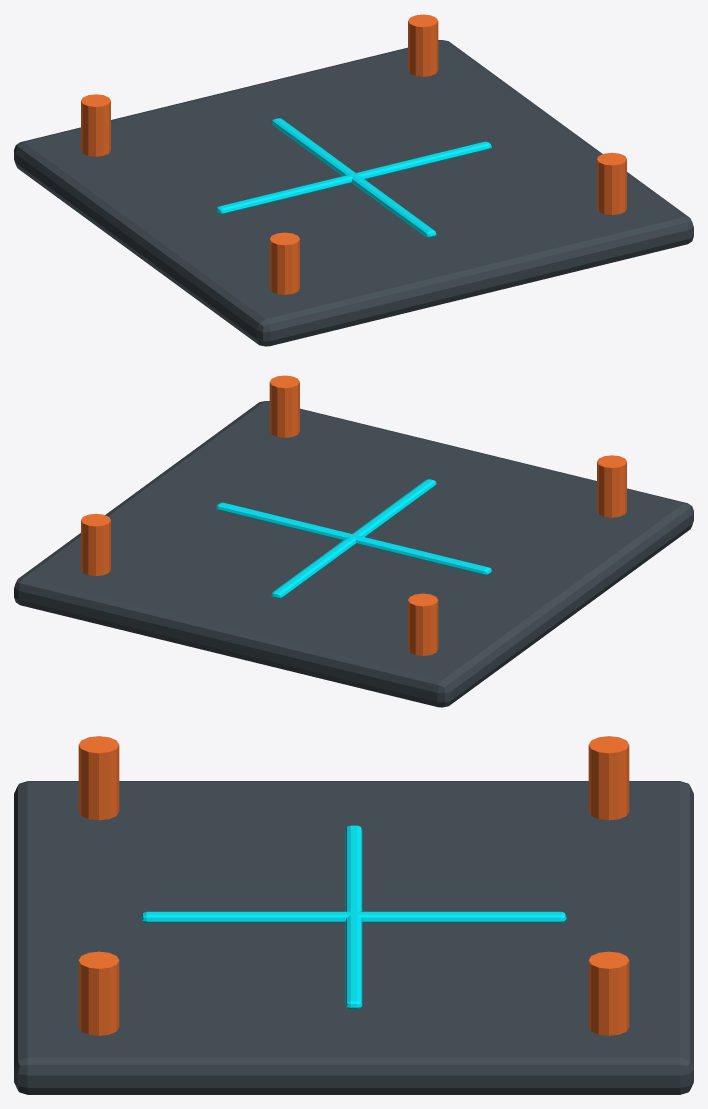
The model's file is LPK_SalvagePad_4m.fbx.
3 views of the same model, one above another, from view 1: azimuth 30°, elevation 25°; view 2: azimuth 150°, elevation 25°; view 3: azimuth 270°, elevation 25° (orthographic). The views are drawn at different scales.
Visible parts, largest first — view 1: PadBase, PadMark, PadMark.001, PadBeacon.003, PadBeacon, PadBeacon.001, PadBeacon.002; view 2: PadBase, PadMark, PadMark.001, PadBeacon.002, PadBeacon.001, PadBeacon, PadBeacon.003; view 3: PadBase, PadMark.001, PadBeacon.002, PadBeacon.003, PadBeacon, PadBeacon.001, PadMark.
Boxes of the visible parts, x1,y1,x2,y2 form: PadBase: [14, 40, 693, 346]; PadMark: [216, 141, 491, 214]; PadMark.001: [271, 118, 436, 237]; PadBeacon.003: [408, 14, 438, 76]; PadBeacon: [269, 232, 299, 294]; PadBeacon.001: [81, 94, 110, 156]; PadBeacon.002: [597, 152, 626, 214]; PadBase: [14, 401, 693, 707]; PadMark: [216, 502, 491, 575]; PadMark.001: [271, 479, 436, 598]; PadBeacon.002: [269, 375, 299, 437]; PadBeacon.001: [408, 593, 438, 655]; PadBeacon: [597, 455, 626, 517]; PadBeacon.003: [81, 513, 110, 575]; PadBase: [14, 781, 693, 1094]; PadMark.001: [141, 911, 566, 922]; PadBeacon.002: [78, 951, 119, 1035]; PadBeacon.003: [588, 951, 629, 1035]; PadBeacon: [78, 736, 119, 820]; PadBeacon.001: [588, 736, 629, 820]; PadMark: [345, 825, 362, 1008].
Bounding box in the file's own units: 4 × 0.675 × 4.
